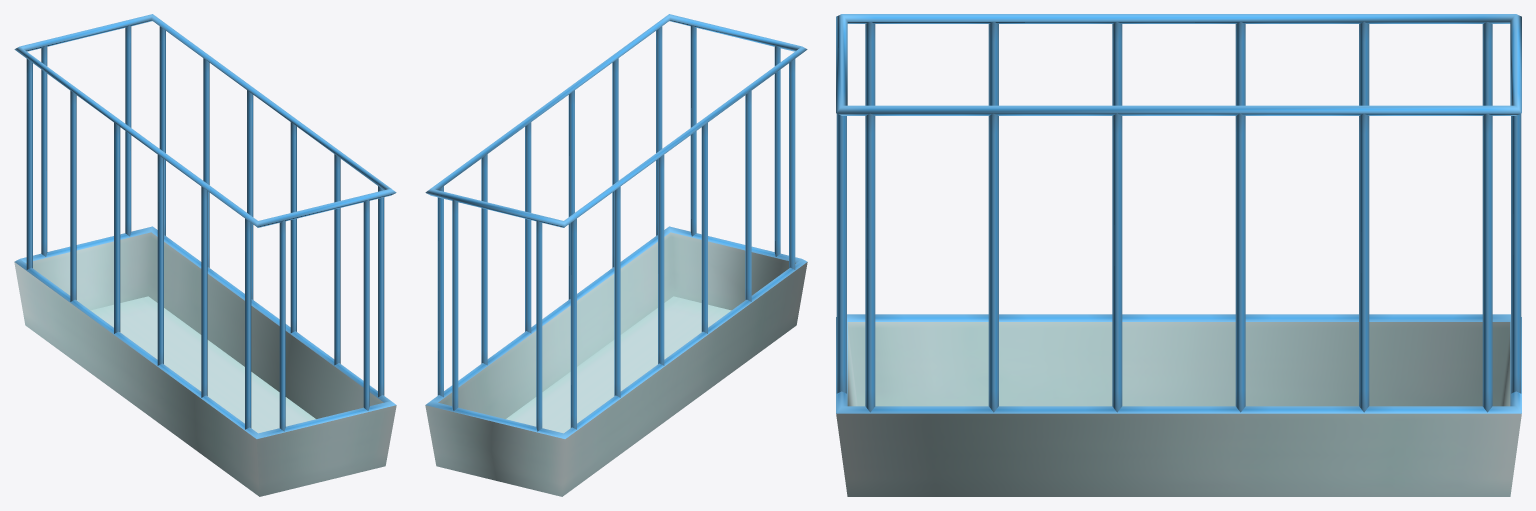
The model's file is KR_Wire_box_01_01.fbx.
3 renders of one model, left to right at view 1: azimuth 30°, elevation 25°; view 2: azimuth 150°, elevation 25°; view 3: azimuth 270°, elevation 25°, orthographic. The views are drawn at different scales.
Parts seen in each view (by area): view 1: kr_wire_box_01_01; view 2: kr_wire_box_01_01; view 3: kr_wire_box_01_01.
Part boxes in pixels (x1=…): kr_wire_box_01_01: x1=14, y1=14, x2=396, y2=496; kr_wire_box_01_01: x1=425, y1=14, x2=807, y2=496; kr_wire_box_01_01: x1=836, y1=14, x2=1521, y2=496.
Size of the model in its own units: 10 by 19 by 30.
